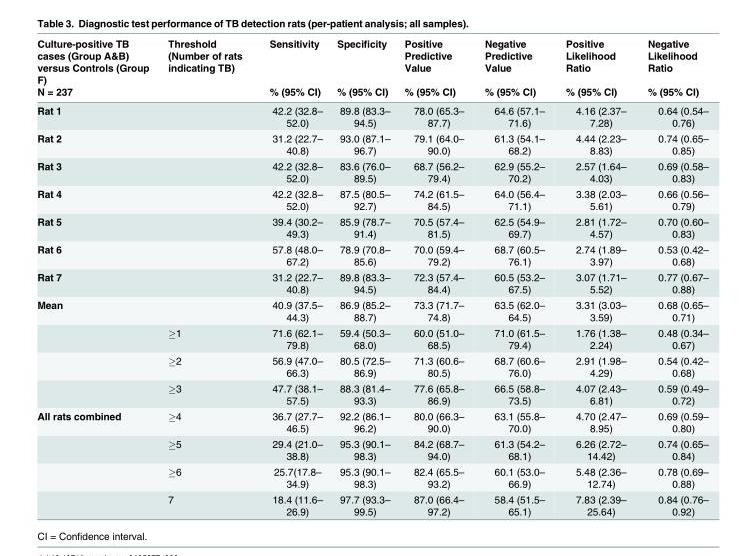table: (36, 37, 707, 516)
table column: (36, 37, 157, 516), (157, 37, 255, 516), (554, 37, 636, 516), (473, 37, 554, 516), (396, 37, 473, 516), (255, 37, 329, 516), (636, 37, 707, 516), (329, 37, 396, 516)
table column header: (36, 37, 707, 100)
table row: (36, 37, 707, 85), (36, 100, 707, 129), (36, 129, 707, 157), (36, 157, 707, 185), (36, 185, 707, 213), (36, 240, 707, 268), (36, 268, 707, 296), (36, 296, 707, 324), (36, 324, 707, 352), (36, 379, 707, 407), (36, 407, 707, 435), (36, 435, 707, 463), (36, 463, 707, 491), (36, 213, 707, 240), (36, 352, 707, 379), (36, 491, 707, 516), (36, 85, 707, 100)
table spanning cell: (36, 296, 157, 407), (36, 407, 157, 516), (36, 37, 157, 100), (157, 37, 255, 100), (554, 37, 636, 100), (473, 37, 554, 100), (396, 37, 473, 100), (255, 37, 329, 100), (636, 37, 707, 100), (329, 37, 396, 100)
